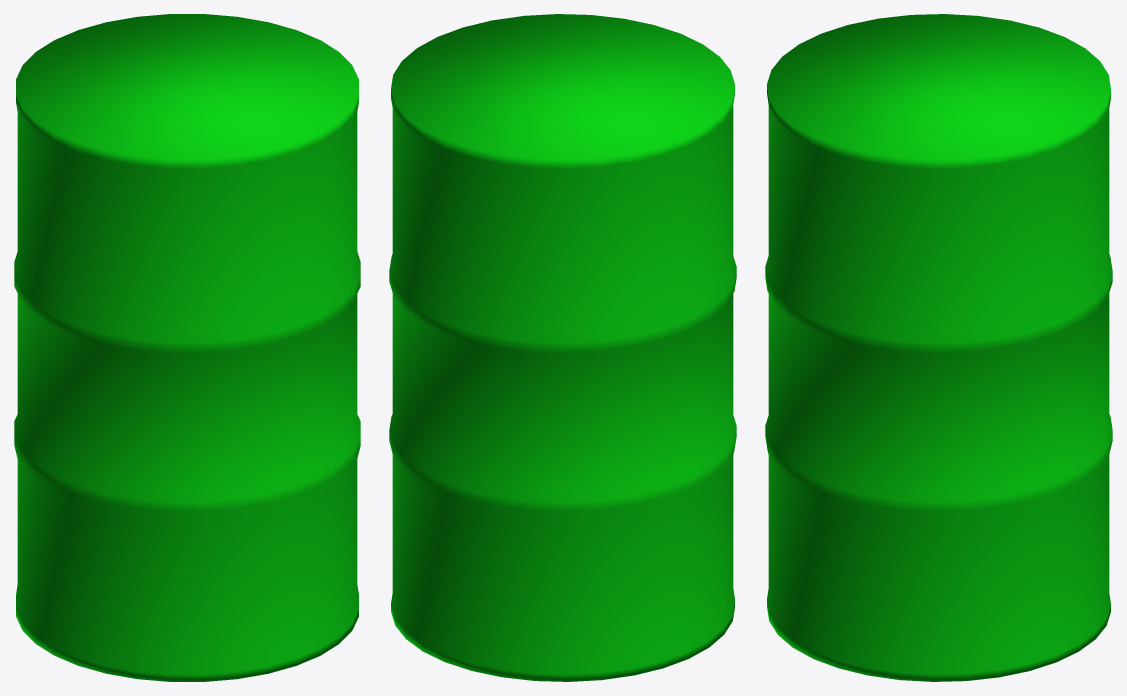
Rendered from barrel.dae.
3 views of the same model, side by side, from view 1: azimuth 30°, elevation 25°; view 2: azimuth 150°, elevation 25°; view 3: azimuth 270°, elevation 25° (orthographic).
Visible parts, largest first — view 1: Oildrum-ref; view 2: Oildrum-ref; view 3: Oildrum-ref.
Part boxes in pixels (x1=…): Oildrum-ref: x1=14, y1=14, x2=360, y2=681; Oildrum-ref: x1=389, y1=14, x2=736, y2=681; Oildrum-ref: x1=765, y1=14, x2=1112, y2=681.
Bounding box in the file's own units: 0.3483 × 0.3483 × 0.5779.
